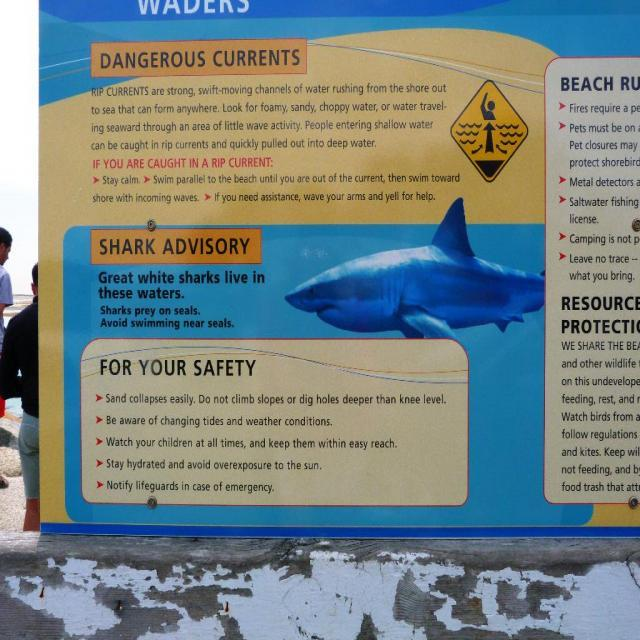Shark: (282, 196, 550, 347)
